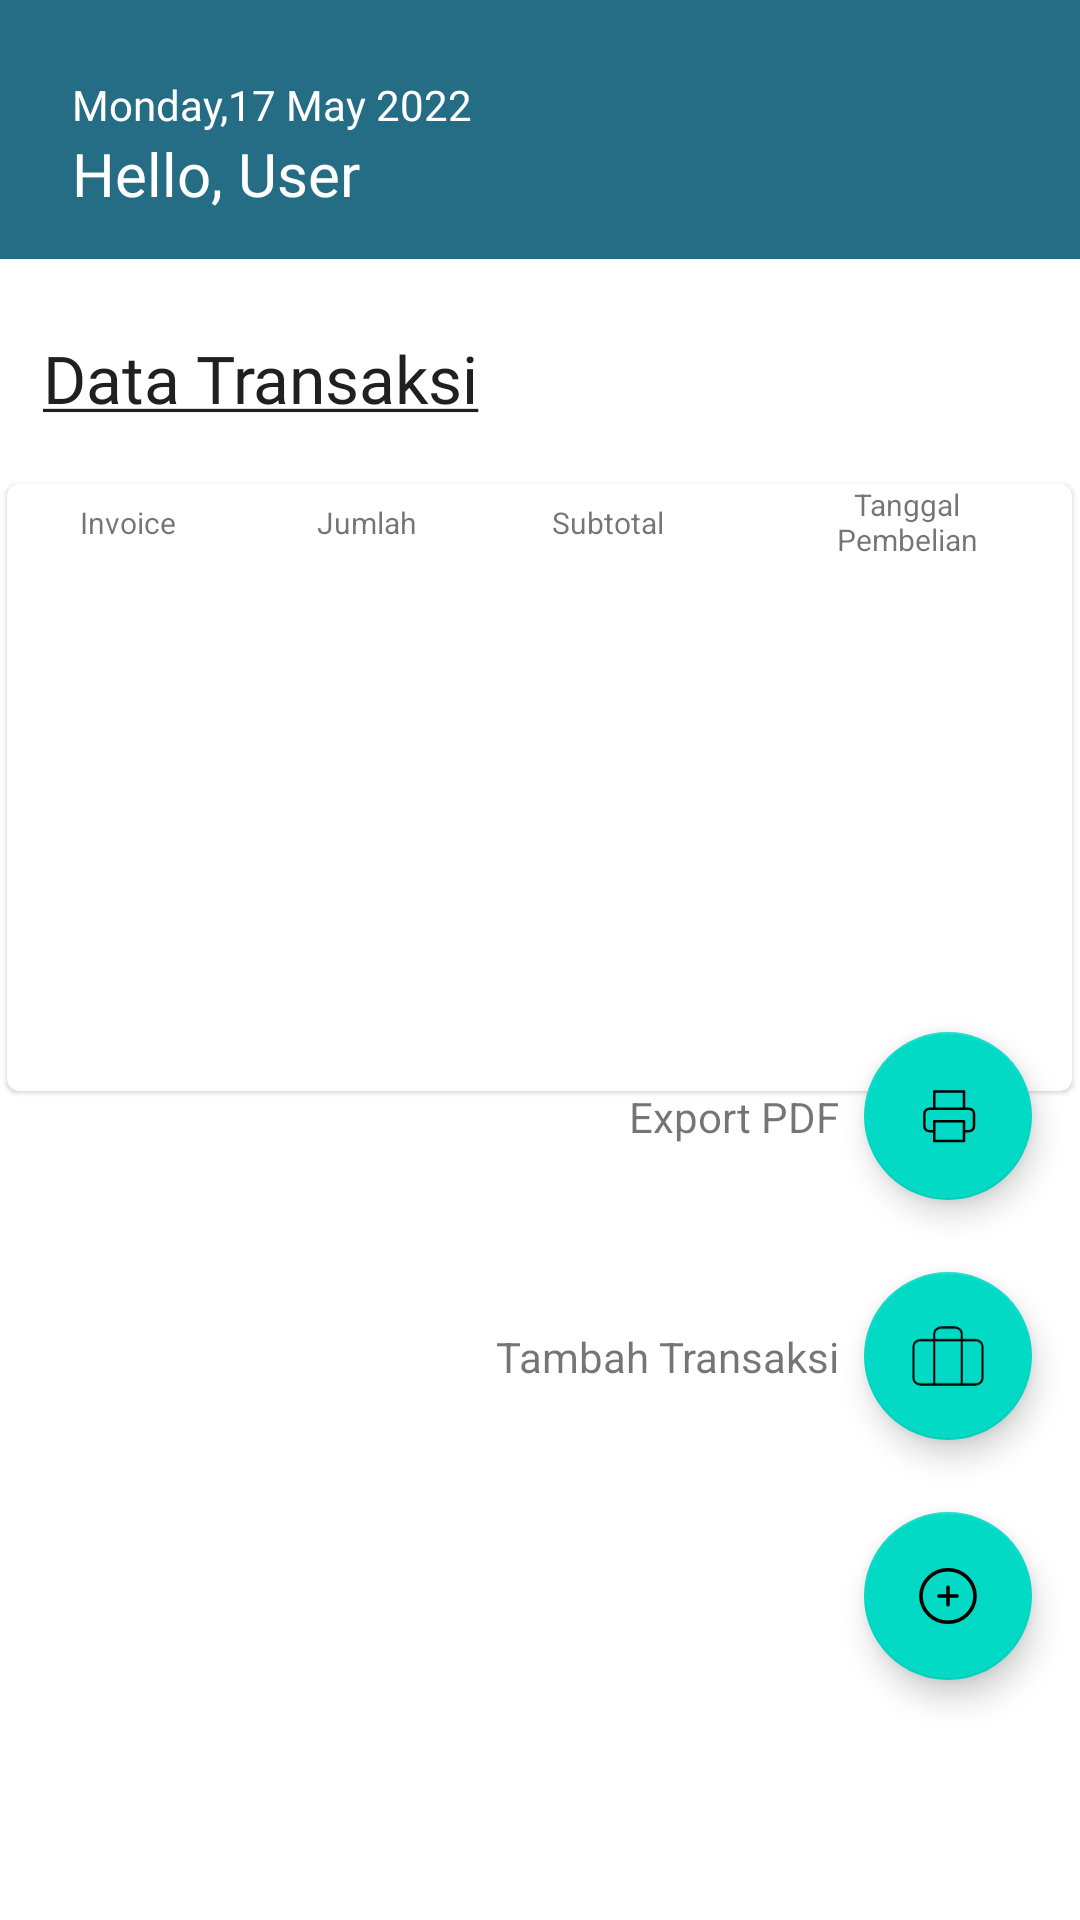

Locate icon controls on the screen. Image size 1080×1920, boxes as detection(x1, y1, x2, y2).
plus: detection(864, 1512, 1032, 1680)
